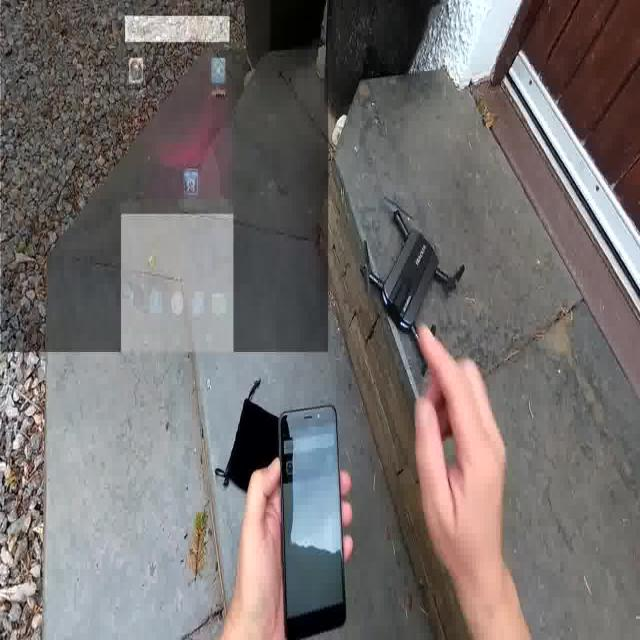Drone_FW: (353, 206, 461, 366)
